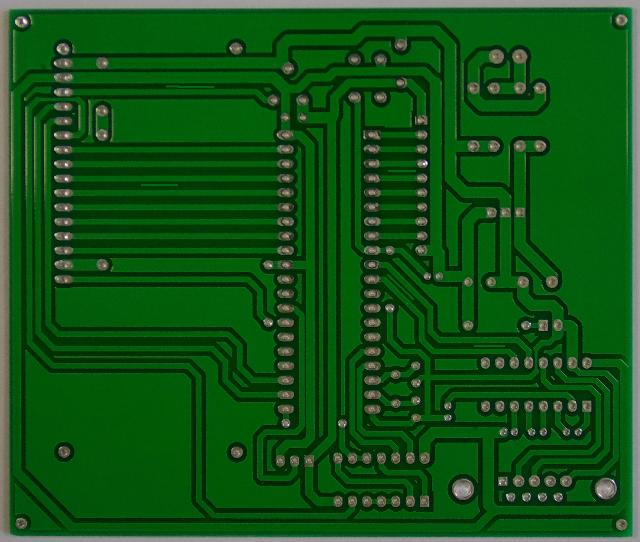spurious_copper: (385, 271, 415, 301), (162, 79, 216, 92), (136, 178, 180, 190), (470, 340, 510, 352), (384, 165, 420, 177)
